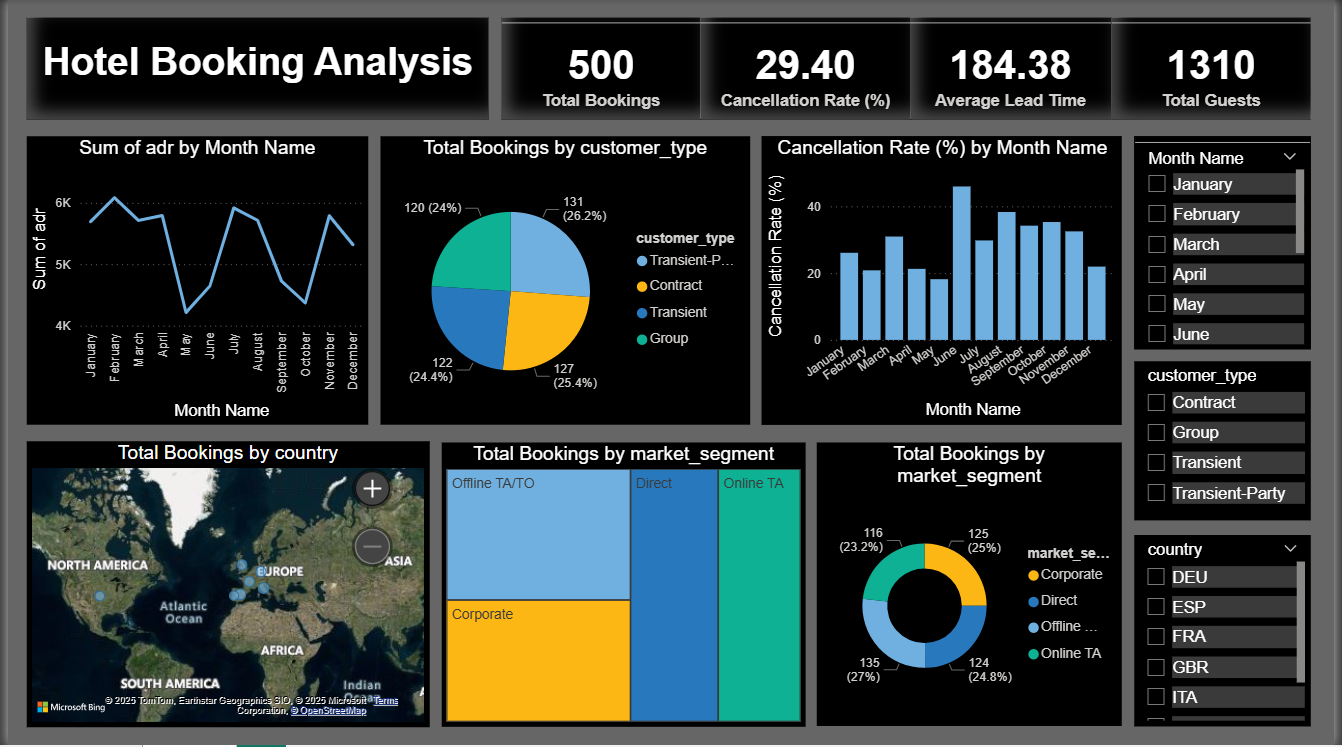

Layout of this report page (visuals, bound fields, positions):
{"tool":"powerbi","page":{"name":"Page 1","canvas":[1280,720],"ordinal":0},"visuals":[{"type":"card","fields":{"Values":["synthetic_hotel_bookings.Total Bookings"]},"box":[476.2,16.5,192.1,98.8],"z":0},{"type":"card","fields":{"Values":["synthetic_hotel_bookings.Cancellation Rate (%)"]},"box":[668.3,16.5,203.1,98.8],"z":1000},{"type":"card","fields":{"Values":["synthetic_hotel_bookings.Average Lead Time"]},"box":[871.4,16.5,193.5,98.8],"z":2000},{"type":"card","fields":{"Values":["synthetic_hotel_bookings.Total Guests"]},"box":[1064.8,16.5,192.1,98.8],"z":3000},{"type":"lineChart","fields":{"Y":["Sum(synthetic_hotel_bookings.adr)"],"Category":["synthetic_hotel_bookings.Month Name"]},"box":[17.8,131.7,329.3,278.6],"z":4000},{"type":"map","fields":{"Category":["synthetic_hotel_bookings.country"],"Size":["synthetic_hotel_bookings.Total Bookings"]},"box":[17.8,425.4,388.3,275.8],"z":5000},{"type":"pieChart","fields":{"Category":["synthetic_hotel_bookings.customer_type"],"Y":["synthetic_hotel_bookings.Total Bookings"]},"box":[359.5,131.7,356.8,278.6],"z":6000},{"type":"clusteredColumnChart","fields":{"Category":["synthetic_hotel_bookings.Month Name"],"Y":["synthetic_hotel_bookings.Cancellation Rate (%)"]},"box":[727.3,131.7,347.2,278.6],"z":7000},{"type":"treemap","fields":{"Group":["synthetic_hotel_bookings.market_segment"],"Values":["synthetic_hotel_bookings.Total Bookings"]},"box":[418.5,426.8,351.3,274.4],"z":8000},{"type":"slicer","fields":{"Values":["synthetic_hotel_bookings.Month Name"]},"box":[1086.8,131.7,170.2,205.8],"z":9000},{"type":"slicer","fields":{"Values":["synthetic_hotel_bookings.customer_type"]},"box":[1086.8,348.5,170.2,153.7],"z":10000},{"type":"slicer","fields":{"Values":["synthetic_hotel_bookings.country"]},"box":[1087,516.4,170.1,184.6],"z":11000},{"type":"donutChart","fields":{"Y":["synthetic_hotel_bookings.Total Bookings"],"Series":["synthetic_hotel_bookings.market_segment"]},"box":[780.6,427.1,294.4,273.9],"z":12000},{"type":"textbox","box":[17.8,16.5,446,98.8],"z":13000}]}

Visuals, with their boxes in screenshot pixels (x1, y1, x2, y2), scaled from the page's 1280x720 canvas onto the 1342x747 screenshot:
card - synthetic_hotel_bookings.Total Bookings: left=499, top=17, right=701, bottom=120
card - synthetic_hotel_bookings.Cancellation Rate (%): left=701, top=17, right=914, bottom=120
card - synthetic_hotel_bookings.Average Lead Time: left=914, top=17, right=1116, bottom=120
card - synthetic_hotel_bookings.Total Guests: left=1116, top=17, right=1318, bottom=120
lineChart - Sum(synthetic_hotel_bookings.adr) x synthetic_hotel_bookings.Month Name: left=19, top=137, right=364, bottom=426
map - synthetic_hotel_bookings.country x synthetic_hotel_bookings.Total Bookings: left=19, top=441, right=426, bottom=727
pieChart - synthetic_hotel_bookings.customer_type x synthetic_hotel_bookings.Total Bookings: left=377, top=137, right=751, bottom=426
clusteredColumnChart - synthetic_hotel_bookings.Month Name x synthetic_hotel_bookings.Cancellation Rate (%): left=763, top=137, right=1127, bottom=426
treemap - synthetic_hotel_bookings.market_segment x synthetic_hotel_bookings.Total Bookings: left=439, top=443, right=807, bottom=727
slicer - synthetic_hotel_bookings.Month Name: left=1139, top=137, right=1318, bottom=350
slicer - synthetic_hotel_bookings.customer_type: left=1139, top=362, right=1318, bottom=521
slicer - synthetic_hotel_bookings.country: left=1140, top=536, right=1318, bottom=727
donutChart - synthetic_hotel_bookings.Total Bookings x synthetic_hotel_bookings.market_segment: left=818, top=443, right=1127, bottom=727
textbox: left=19, top=17, right=486, bottom=120
